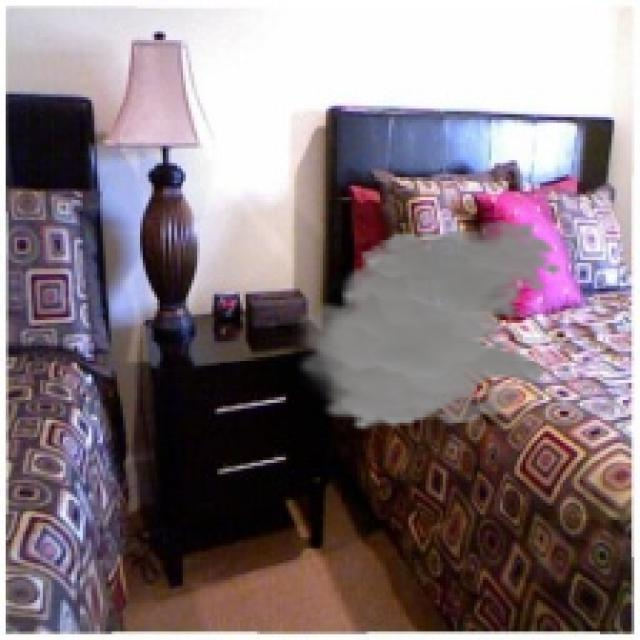Smoke: (286, 219, 563, 432)
